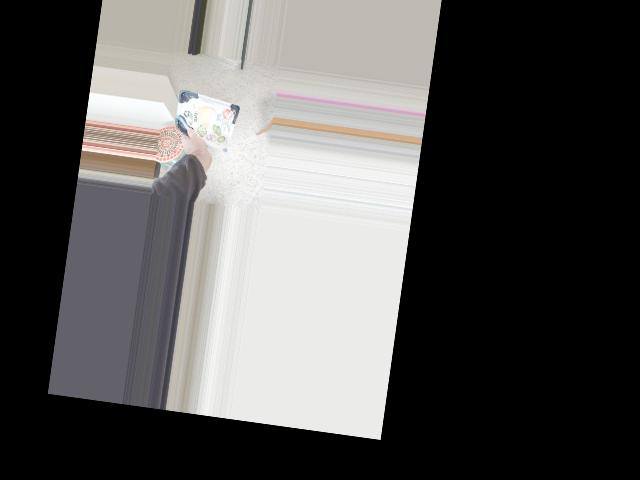cheese: (181, 106, 237, 161)
